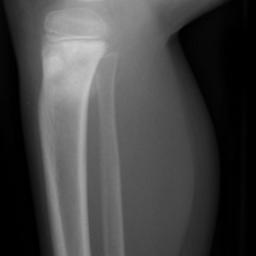cancer: (38, 38, 107, 124)
